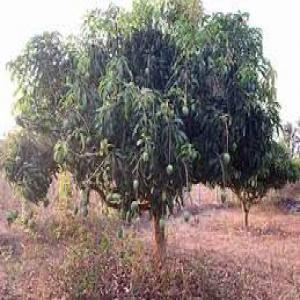Tree: (2, 0, 292, 248)
